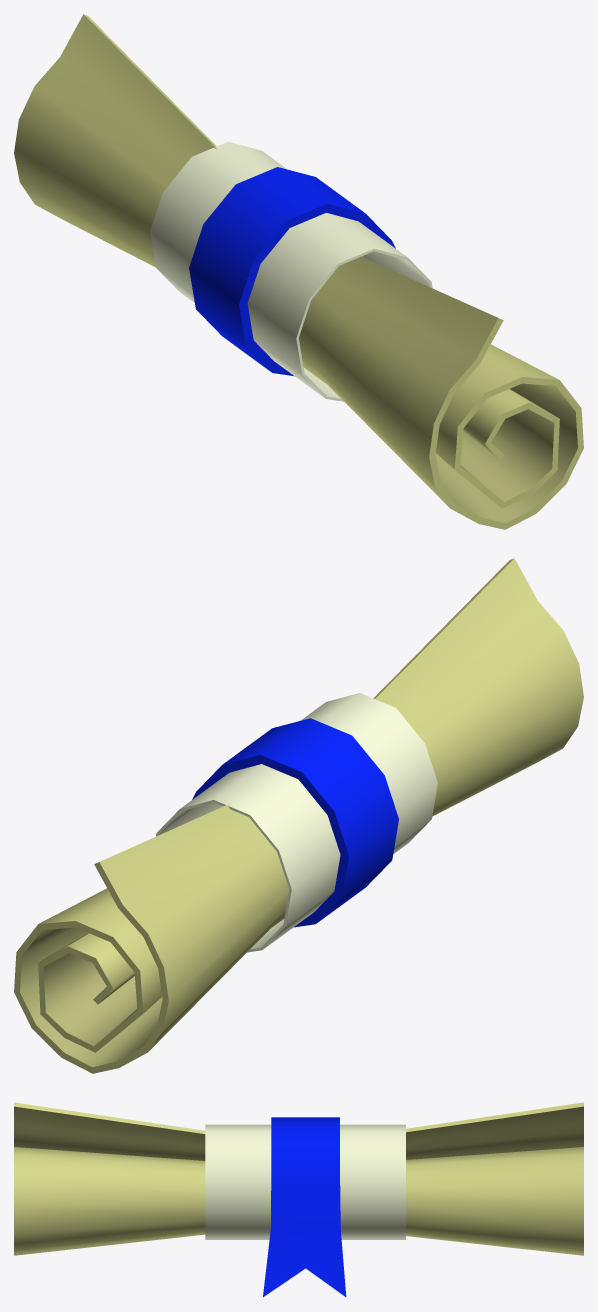
File: Scroll_Blue.fbx
3 views of the same model, one above another, from view 1: azimuth 30°, elevation 25°; view 2: azimuth 150°, elevation 25°; view 3: azimuth 270°, elevation 25° (orthographic). The views are drawn at different scales.
Parts seen in each view (by area): view 1: Scroll_Blue; view 2: Scroll_Blue; view 3: Scroll_Blue.
Boxes of the visible parts, <box> form: Scroll_Blue: <box>14,14,583,529</box>; Scroll_Blue: <box>14,558,583,1073</box>; Scroll_Blue: <box>14,1102,583,1296</box>.
Bounding box in the file's own units: 0.25 × 0.2259 × 0.7965.
